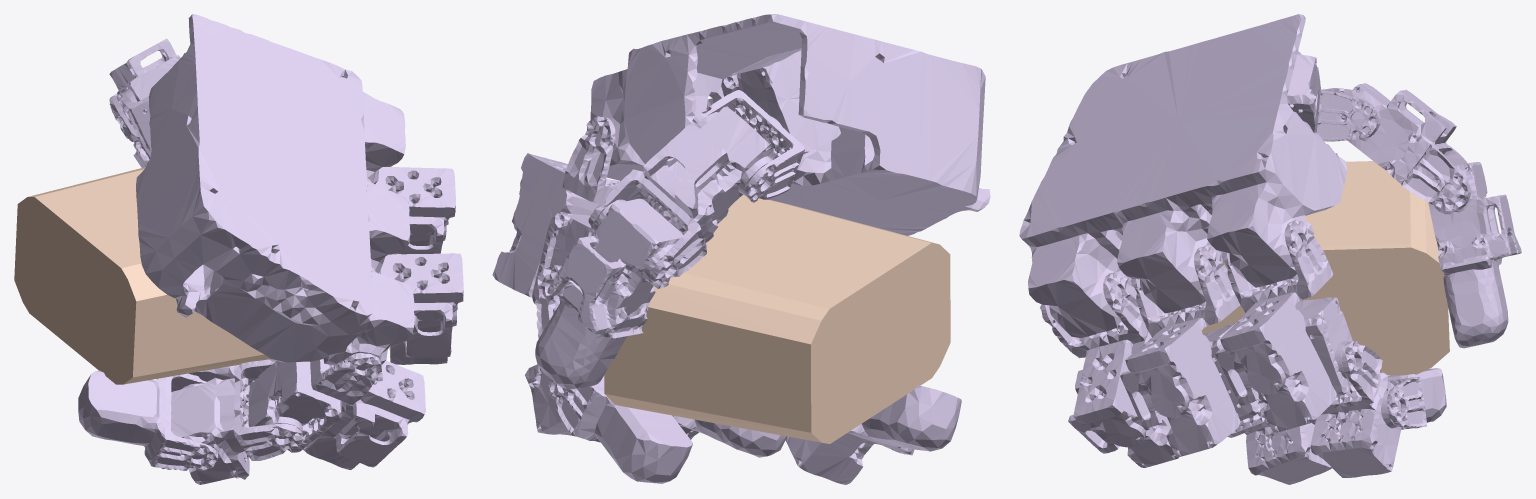
3 renders of one model, left to right at view 1: azimuth 30°, elevation 25°; view 2: azimuth 150°, elevation 25°; view 3: azimuth 270°, elevation 25°, orthographic. The views are drawn at different scales.
Visible parts, largest first — view 1: LEAP_hand, world; view 2: LEAP_hand, world; view 3: LEAP_hand, world.
Boxes of the visible parts, x1,y1,x2,y2 form: LEAP_hand: (78,14,463,484); world: (14,167,271,384); LEAP_hand: (492,14,990,484); world: (604,194,950,443); LEAP_hand: (1019,14,1521,484); world: (1202,161,1449,375).
Size of the model in its own units: 0.1737 by 0.1914 by 0.1998.
